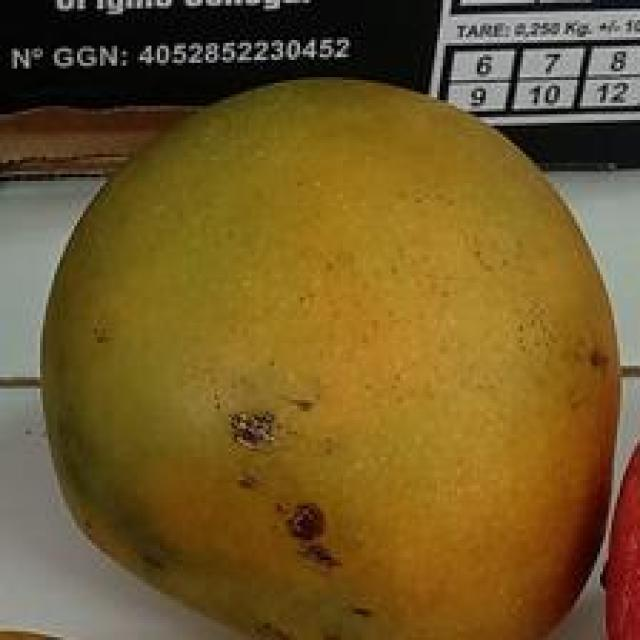Mango: (39, 75, 616, 634)
